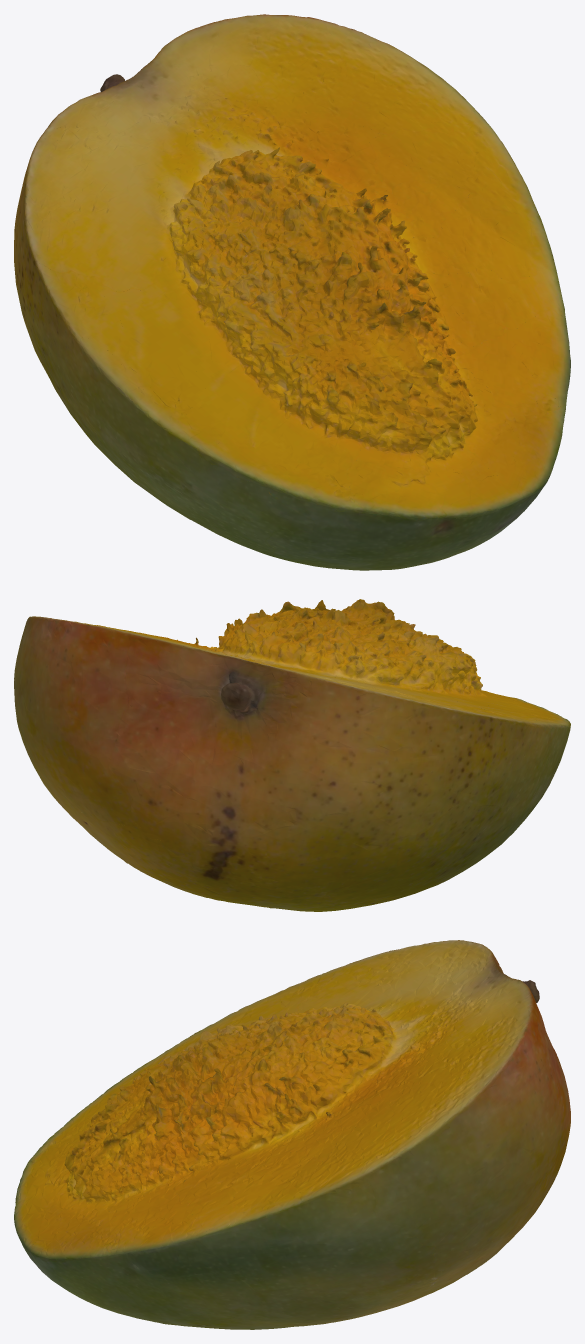
The model's file is half_mango.glb.
3 renders of one model, top to bottom at view 1: azimuth 30°, elevation 25°; view 2: azimuth 150°, elevation 25°; view 3: azimuth 270°, elevation 25°, orthographic. The views are drawn at different scales.
Parts seen in each view (by area): view 1: MangoSliceWithPitobjcleanermaterialmergergles; view 2: MangoSliceWithPitobjcleanermaterialmergergles; view 3: MangoSliceWithPitobjcleanermaterialmergergles.
Part boxes in pixels (<box>): MangoSliceWithPitobjcleanermaterialmergergles: <box>14,14,570,570</box>; MangoSliceWithPitobjcleanermaterialmergergles: <box>14,599,570,911</box>; MangoSliceWithPitobjcleanermaterialmergergles: <box>14,940,570,1329</box>.
Bounding box in the file's own units: 95.1 × 70.43 × 107.
1 material, 1 textured.
